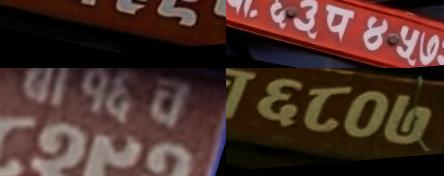0: (338, 86, 395, 157)
1: (69, 68, 117, 124), (205, 0, 226, 49)
2: (23, 115, 98, 176), (129, 136, 207, 176), (103, 0, 160, 24), (431, 39, 444, 68)
3: (288, 0, 323, 38)
4: (358, 16, 391, 56)
5: (393, 27, 421, 66)
6: (249, 70, 311, 138), (100, 68, 149, 132), (264, 0, 294, 30)
7: (378, 95, 440, 163), (412, 33, 443, 68)
8: (295, 78, 356, 148), (0, 100, 44, 176)
9: (78, 127, 152, 176), (150, 0, 213, 38)
ba: (11, 68, 84, 116), (226, 0, 262, 24)
cha: (140, 72, 197, 141), (226, 68, 259, 132), (41, 0, 111, 14)
pa: (315, 2, 356, 47)
